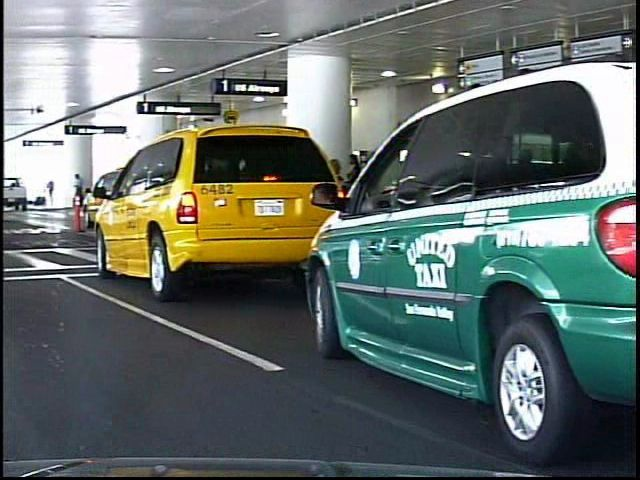person: (66, 173, 83, 210)
